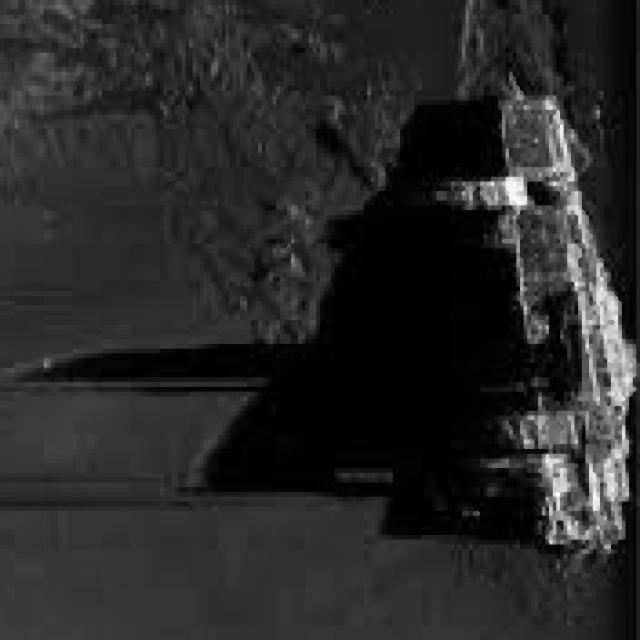Ship: (421, 67, 640, 587)
